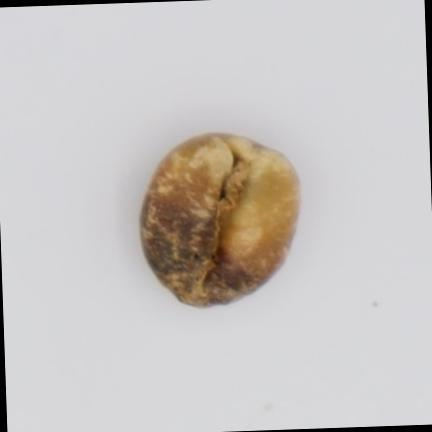partial-black: (142, 133, 299, 305)
